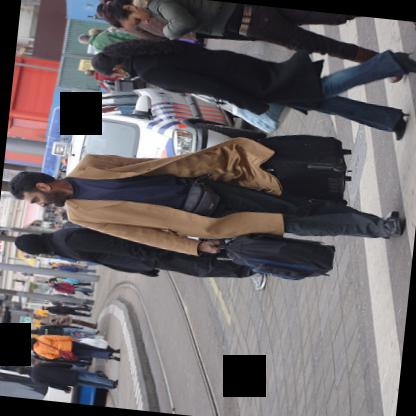backpack: (217, 229, 336, 280)
handbag: (190, 93, 290, 133), (36, 338, 79, 359), (58, 284, 75, 293)
suitcase: (258, 131, 353, 204)
